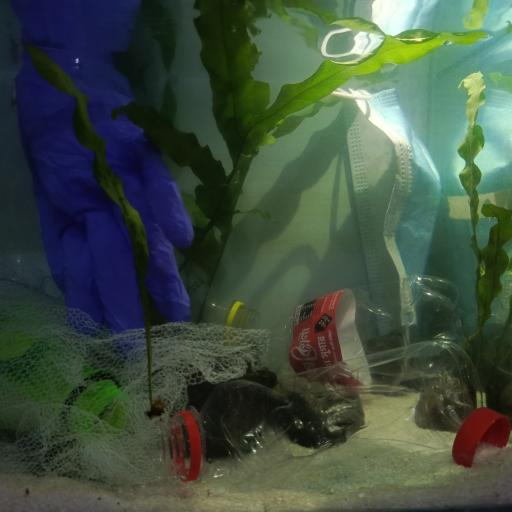bottle_cap: (452, 404, 512, 468)
glove: (10, 42, 196, 332)
mask: (330, 79, 444, 342)
net: (0, 282, 263, 490)
plastic_bottle: (148, 334, 483, 478), (264, 276, 464, 382), (0, 320, 130, 428), (203, 282, 257, 328)
